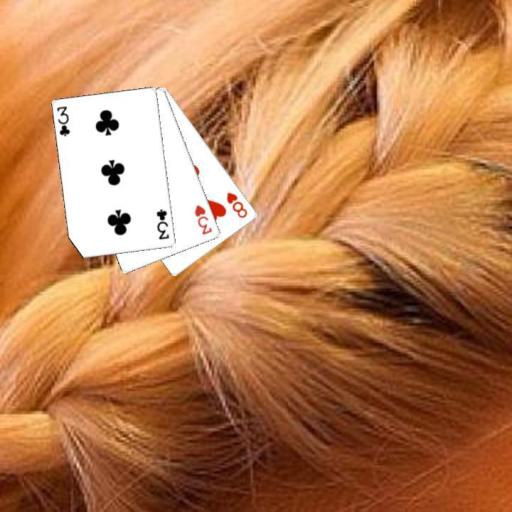3C: (154, 206, 171, 241), (54, 103, 71, 138)
3H: (192, 202, 214, 236)
8H: (223, 188, 249, 220)
